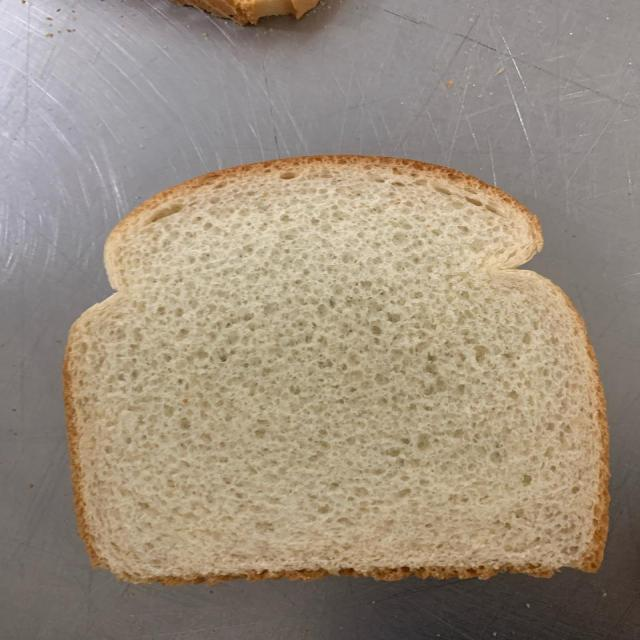pan: (61, 156, 612, 586)
